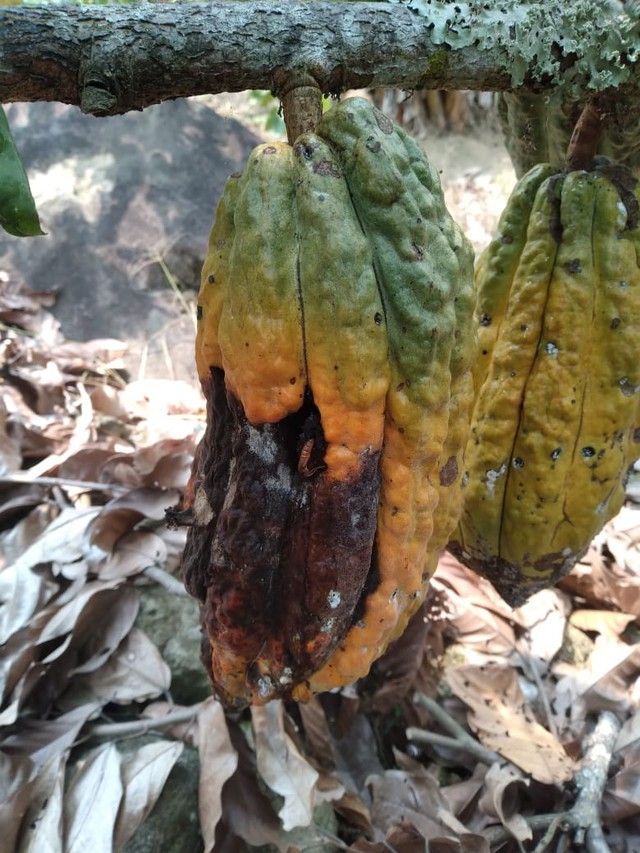moniliophthora roreri: (160, 90, 484, 719), (447, 156, 640, 623)
